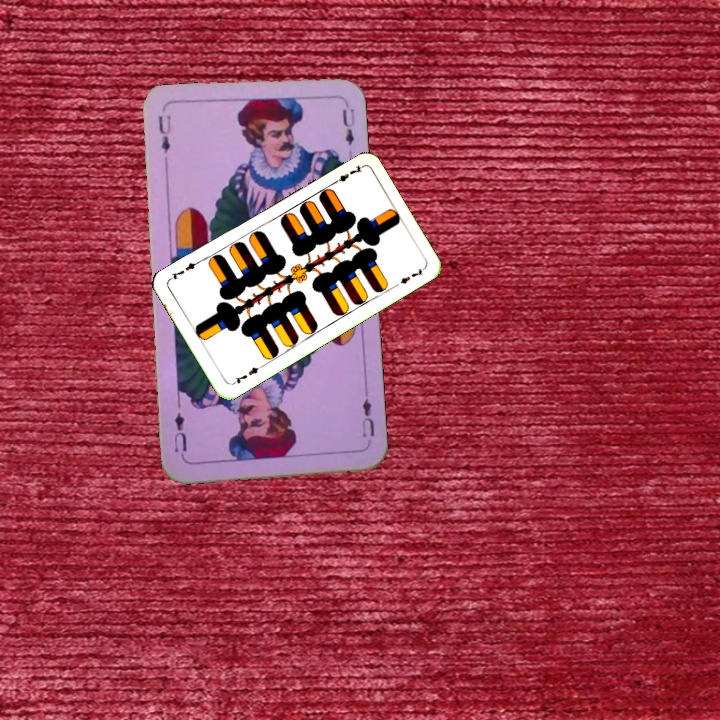E7: (228, 361, 265, 387), (328, 161, 365, 187)
EU: (358, 387, 377, 440), (154, 111, 173, 156)
